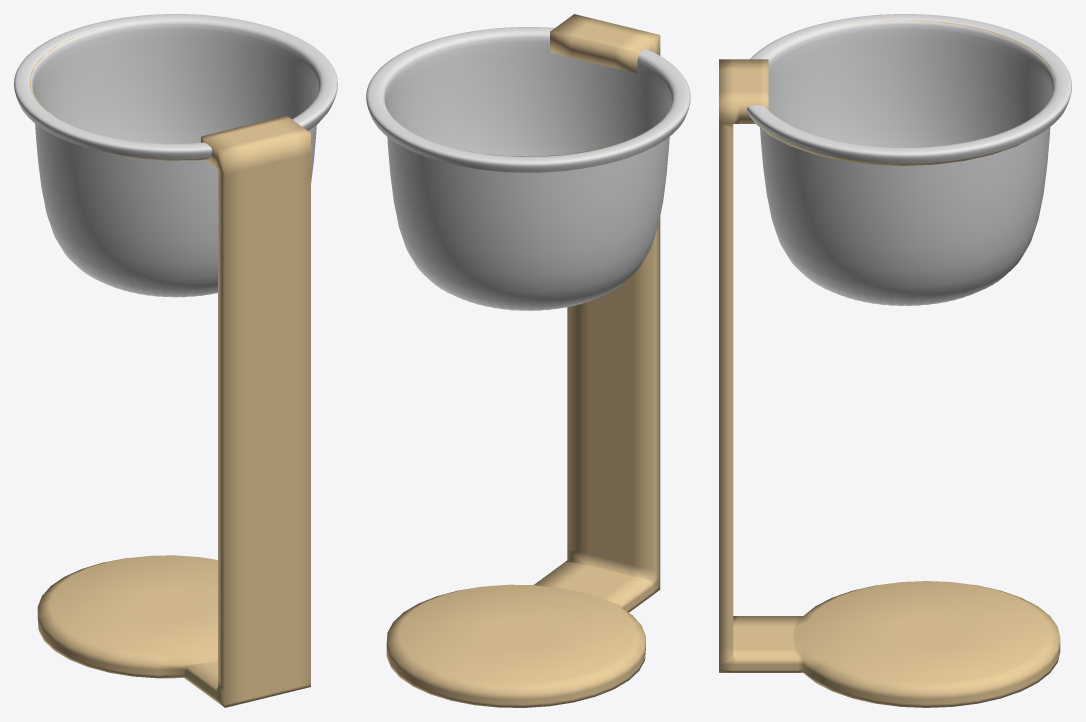
The model's file is cafeteira_001.dae.
The picture shows the model from 3 angles, left to right: view 1: azimuth 30°, elevation 25°; view 2: azimuth 150°, elevation 25°; view 3: azimuth 270°, elevation 25°; orthographic projection. The views are drawn at different scales.
Parts seen in each view (by area): view 1: Circle, Vert; view 2: Vert, Circle; view 3: Vert, Circle.
Boxes of the visible parts, left/top/right/bottom form: Circle: left=29, top=29, right=327, bottom=707; Vert: left=14, top=14, right=337, bottom=297; Vert: left=366, top=27, right=690, bottom=310; Circle: left=386, top=14, right=672, bottom=707; Vert: left=747, top=14, right=1071, bottom=305; Circle: left=719, top=20, right=1060, bottom=707.
Bounding box in the file's own units: 0.7491 × 0.7924 × 1.41.
